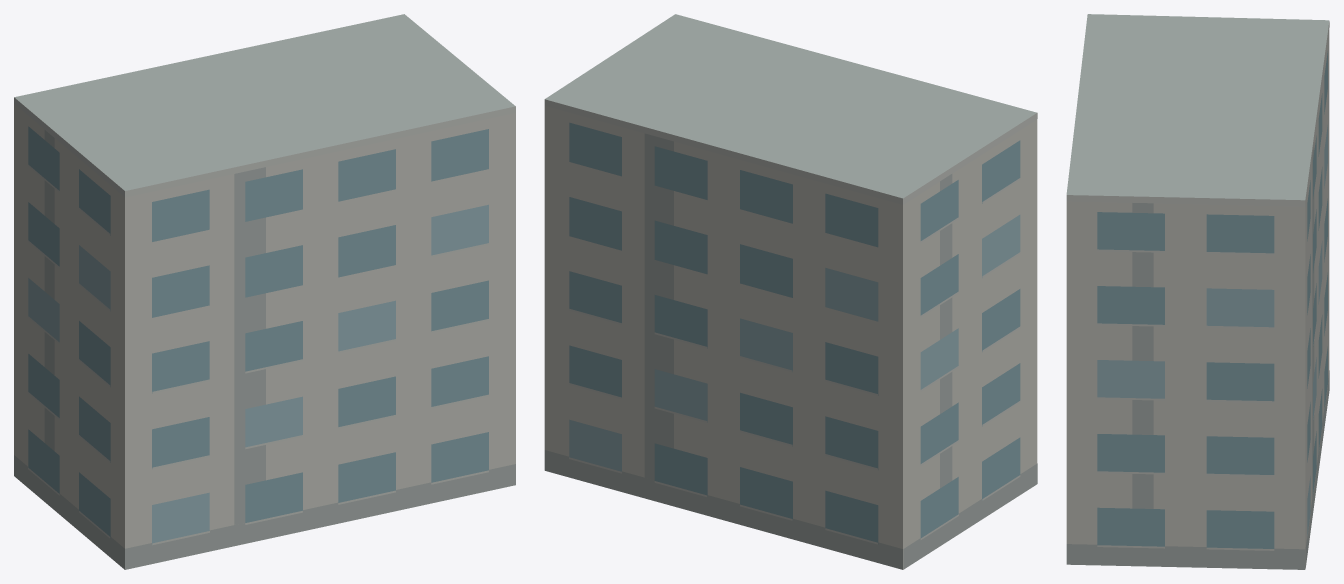
The model's file is survey-upis-33025800.glb.
The picture shows the model from 3 angles, left to right: view 1: azimuth 30°, elevation 25°; view 2: azimuth 150°, elevation 25°; view 3: azimuth 270°, elevation 25°; orthographic projection. The views are drawn at different scales.
Parts seen in each view (by area): view 1: survey-upis-33025800.tmp; view 2: survey-upis-33025800.tmp; view 3: survey-upis-33025800.tmp.
Part boxes in pixels (x1,y1,x2,y2): survey-upis-33025800.tmp: [14, 14, 515, 569]; survey-upis-33025800.tmp: [544, 14, 1037, 569]; survey-upis-33025800.tmp: [1066, 14, 1329, 569].
Size of the model in its own units: 15.24 by 14.1 by 9.1.
